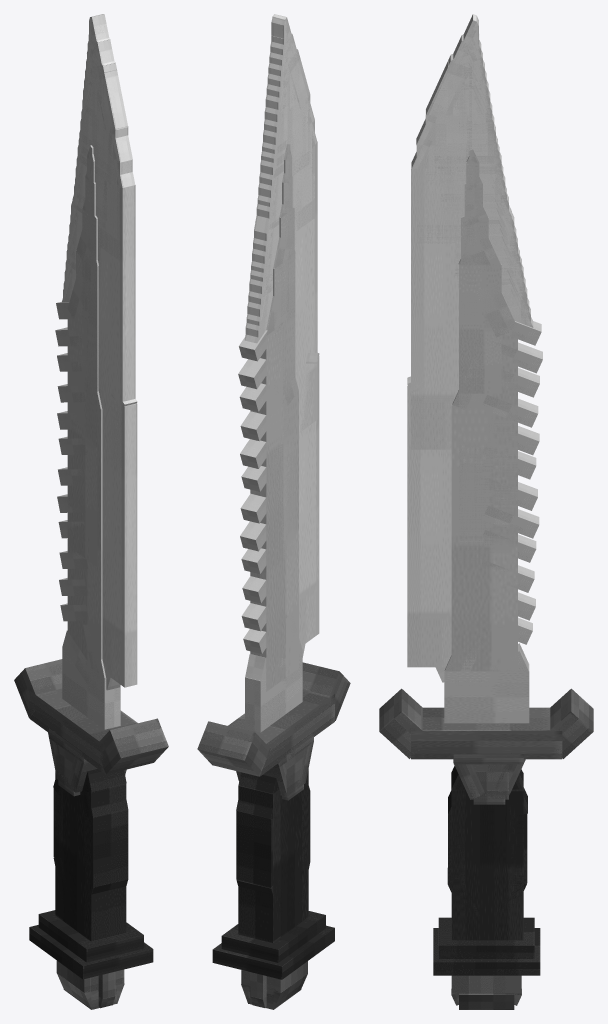
The model's file is cuchillo_combate.glb.
3 views of the same model, side by side, from view 1: azimuth 30°, elevation 25°; view 2: azimuth 150°, elevation 25°; view 3: azimuth 270°, elevation 25° (orthographic).
Parts seen in each view (by area): view 1: Object_2, Object_3; view 2: Object_2, Object_3; view 3: Object_2, Object_3.
Part boxes in pixels (<box>): Object_2: <box>55,14,137,729</box>; Object_3: <box>14,659,168,1009</box>; Object_2: <box>238,14,319,732</box>; Object_3: <box>197,662,350,1009</box>; Object_2: <box>407,14,542,723</box>; Object_3: <box>379,688,593,1009</box>.
Size of the model in its own units: 0.0688 by 0.9219 by 0.1812.
2 materials, 2 textured.
